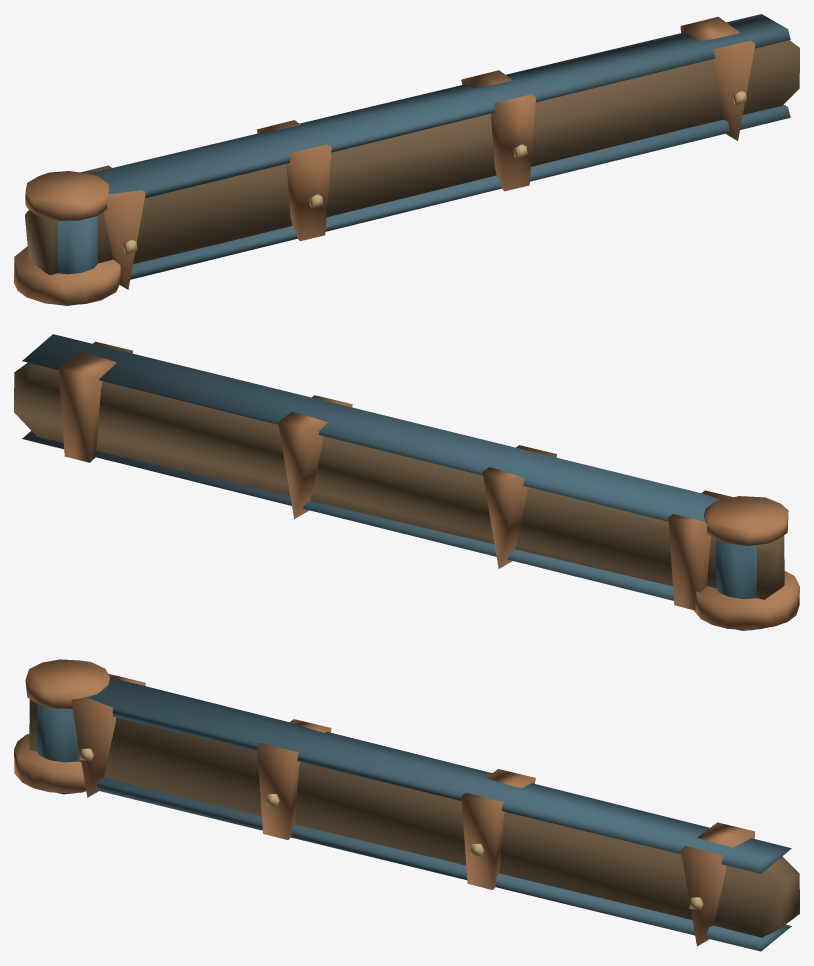
File: STURMBASTION_DEFLECTOR.shadow.glb
3 renders of one model, top to bottom at view 1: azimuth 30°, elevation 25°; view 2: azimuth 150°, elevation 25°; view 3: azimuth 330°, elevation 25°, orthographic.
Parts seen in each view (by area): view 1: DeflectorPivot_Geometry, STURMBASTION_DEFLECTOR_Geometry; view 2: DeflectorPivot_Geometry, STURMBASTION_DEFLECTOR_Geometry; view 3: DeflectorPivot_Geometry, STURMBASTION_DEFLECTOR_Geometry.
Part boxes in pixels (<box>): DeflectorPivot_Geometry: <box>25,14,799,305</box>; STURMBASTION_DEFLECTOR_Geometry: <box>14,246,120,304</box>; DeflectorPivot_Geometry: <box>14,334,788,630</box>; STURMBASTION_DEFLECTOR_Geometry: <box>693,571,799,630</box>; DeflectorPivot_Geometry: <box>25,659,799,951</box>; STURMBASTION_DEFLECTOR_Geometry: <box>14,734,86,793</box>.
Bounding box in the file's own units: 4.13 × 0.5384 × 0.4888.
